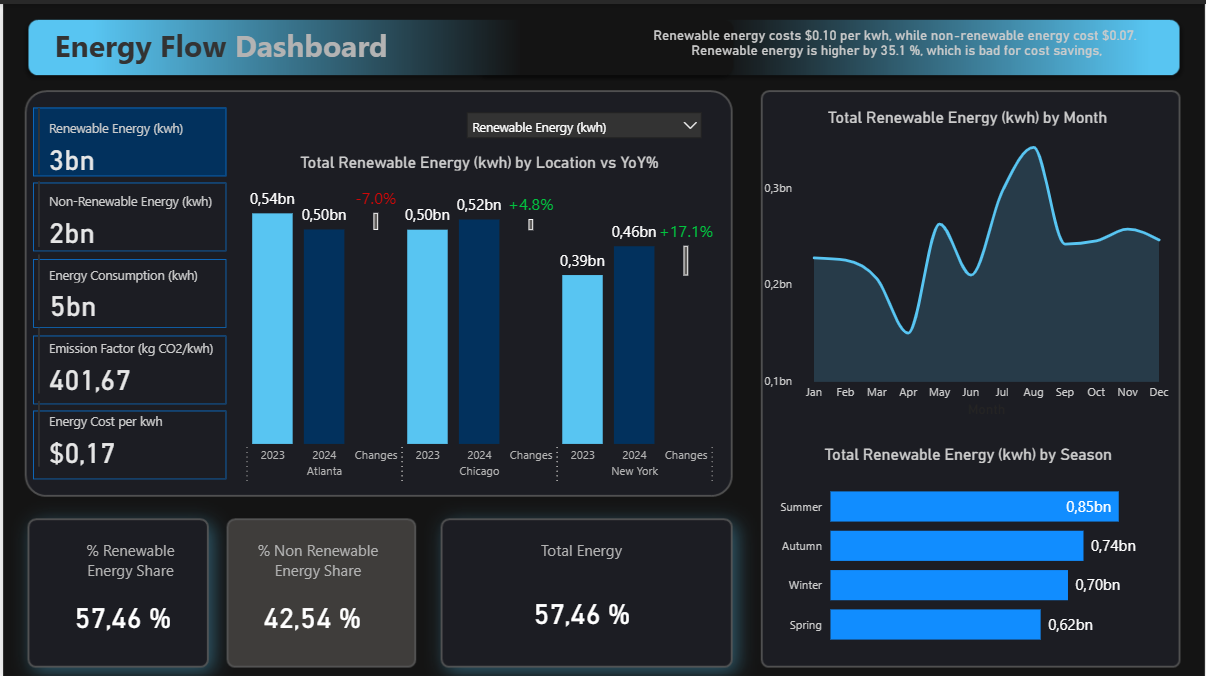

What the dashboard file says about the page in this screenshot:
{"tool":"powerbi","page":{"name":"Page 1","canvas":[1280,720],"ordinal":0},"visuals":[{"type":"shape","box":[32,433,206.1,73.5],"z":0},{"type":"shape","box":[32,353,206.1,73.5],"z":1000},{"type":"shape","box":[32,272,206.1,73.5],"z":2000},{"type":"shape","box":[32,190.1,206.1,73.5],"z":3000},{"type":"shape","box":[32,110.2,206.1,73.5],"z":4000},{"type":"clusteredColumnChart","fields":{"Category":["Data.Location","YearTable.Year"],"Y":["YearTable.YoY Change"]},"box":[238.1,158.2,538.4,361.1],"z":5000},{"type":"slicer","fields":{"Values":["Switchable Measures.Switchable Measures"]},"box":[484.1,105.4,270,41.5],"z":6000},{"type":"cardVisual","fields":{"Data":["DAX HOUSE.Total Renewable Energy (kwh)","DAX HOUSE.Total Non-Renewable Energy (kwh)","DAX HOUSE.Total Energy Consumption (kwh)","DAX HOUSE.Emission Factor (kg CO2/kwh)","DAX HOUSE.Energy Cost per kwh"]},"box":[32,105.4,220.5,396.2],"z":7000},{"type":"card","fields":{"Values":["DAX HOUSE.% Non Renewable Energy Share"]},"box":[252.4,618.3,153.4,67.1],"z":8000},{"type":"card","fields":{"Values":["DAX HOUSE.% Renewable Energy Share"]},"box":[49.5,623.1,155,57.5],"z":9000},{"type":"textbox","box":[67.1,565.6,137.4,62.3],"z":10000},{"type":"textbox","box":[252.4,565.6,166.2,62.3],"z":11000},{"type":"textbox","box":[508.1,565.6,220.5,52.7],"z":12000},{"type":"card","fields":{"Values":["DAX HOUSE.% Renewable Energy Share"]},"box":[530.4,618.3,171,57.5],"z":13000},{"type":"lineChart","fields":{"Category":["Calendar.Month"],"Y":["Switchable Measures.Group Measures"]},"box":[805.2,110.2,444.2,333.9],"z":14000},{"type":"clusteredBarChart","fields":{"Category":["Calendar.Season"],"Y":["Switchable Measures.Group Measures"]},"box":[818,469.7,420.2,230.1],"z":15000},{"type":"textbox","box":[41.5,16,377.1,62.3],"z":16000},{"type":"card","fields":{"Values":["DAX HOUSE.Energy Cost Summary"]},"box":[653.4,16,595.9,52.7],"z":17002}]}

Visuals, with their boxes in screenshot pixels (x1, y1, x2, y2), scaled from the page's 1280x720 canvas onto the 1206x676 screenshot:
shape: l=30, t=407, r=224, b=476
shape: l=30, t=331, r=224, b=400
shape: l=30, t=255, r=224, b=324
shape: l=30, t=178, r=224, b=247
shape: l=30, t=103, r=224, b=172
clusteredColumnChart - Data.Location x YearTable.Year: l=224, t=149, r=732, b=488
slicer - Switchable Measures.Switchable Measures: l=456, t=99, r=711, b=138
cardVisual - DAX HOUSE.Total Renewable Energy (kwh) x DAX HOUSE.Total Non-Renewable Energy (kwh): l=30, t=99, r=238, b=471
card - DAX HOUSE.% Non Renewable Energy Share: l=238, t=581, r=382, b=644
card - DAX HOUSE.% Renewable Energy Share: l=47, t=585, r=193, b=639
textbox: l=63, t=531, r=193, b=590
textbox: l=238, t=531, r=394, b=590
textbox: l=479, t=531, r=686, b=581
card - DAX HOUSE.% Renewable Energy Share: l=500, t=581, r=661, b=635
lineChart - Calendar.Month x Switchable Measures.Group Measures: l=759, t=103, r=1177, b=417
clusteredBarChart - Calendar.Season x Switchable Measures.Group Measures: l=771, t=441, r=1167, b=657
textbox: l=39, t=15, r=394, b=74
card - DAX HOUSE.Energy Cost Summary: l=616, t=15, r=1177, b=65
